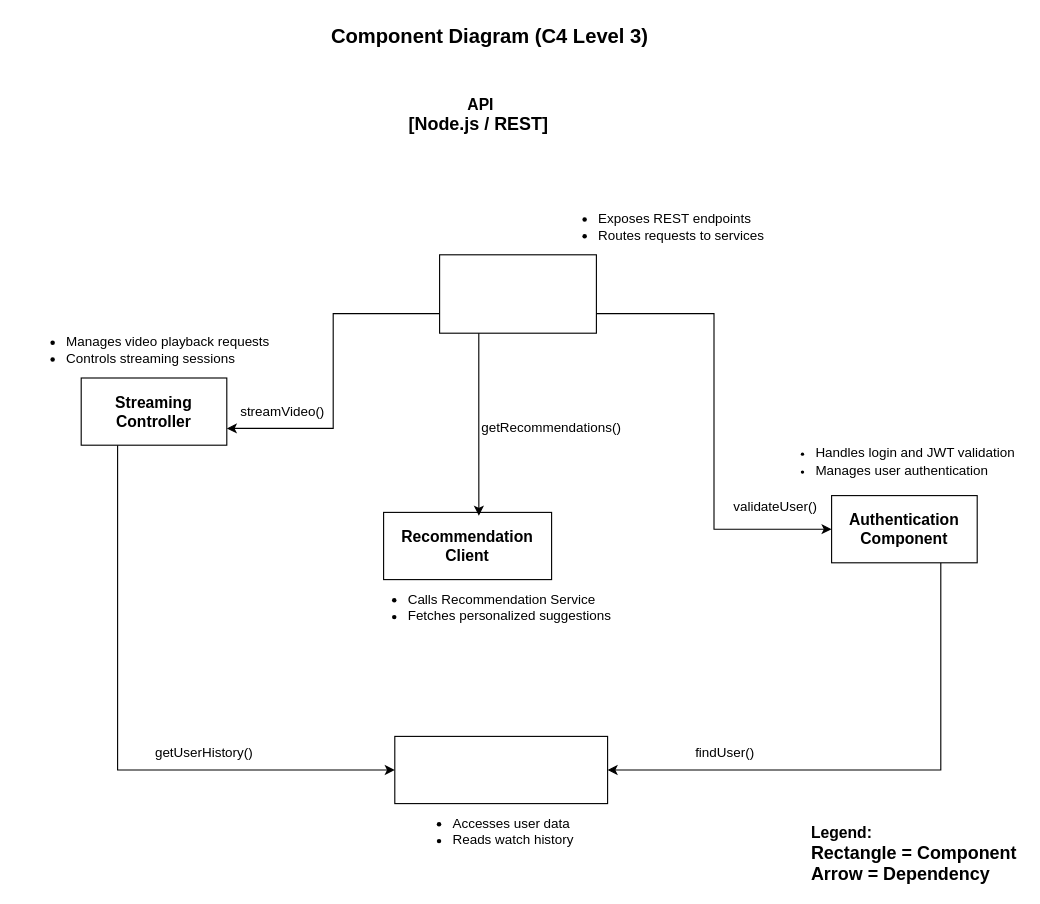
This 1040x904 diagram has some shape labels left out. Here are the shapes that lost their labels. From the top down, the centre of each, then its label:
the point at 517,293: API Controller
the point at 501,769: User Repository
